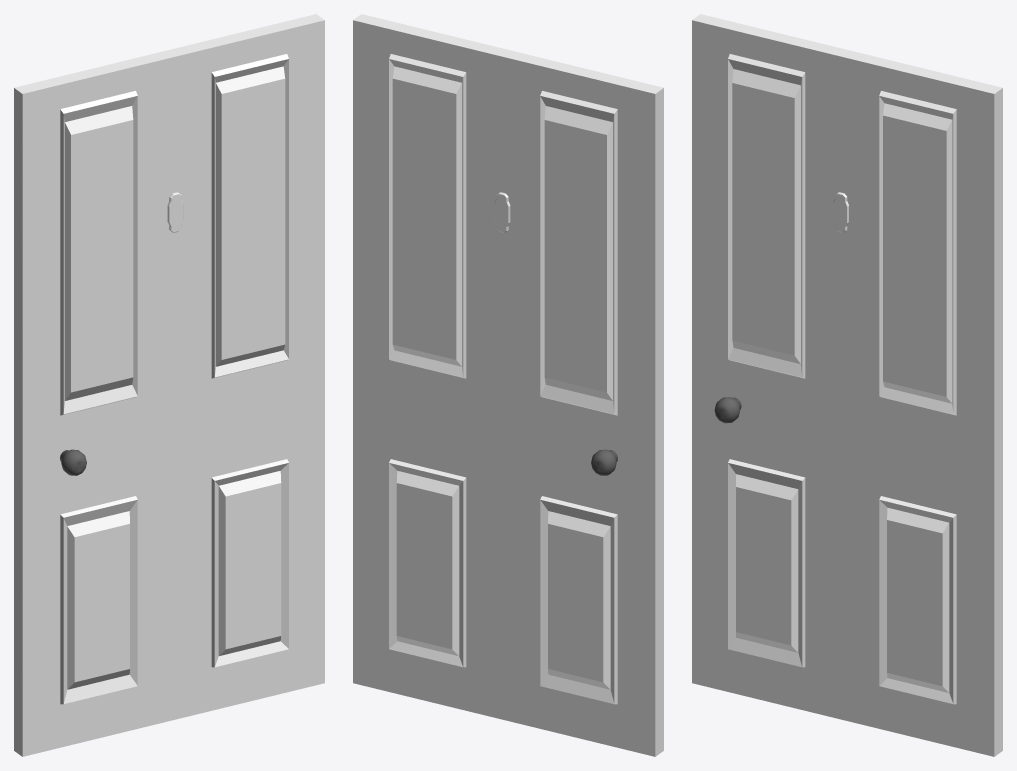
Rendered from Mesh_Door_05.FBX.
3 views of the same model, side by side, from view 1: azimuth 30°, elevation 25°; view 2: azimuth 150°, elevation 25°; view 3: azimuth 330°, elevation 25° (orthographic).
Visible parts, largest first — view 1: Mesh_Door_05; view 2: Mesh_Door_05; view 3: Mesh_Door_05.
Boxes of the visible parts, left/top/right/bottom form: Mesh_Door_05: left=14, top=14, right=324, bottom=756; Mesh_Door_05: left=353, top=14, right=663, bottom=756; Mesh_Door_05: left=692, top=14, right=1002, bottom=756.
Bounding box in the file's own units: 93.92 × 197 × 19.06.
